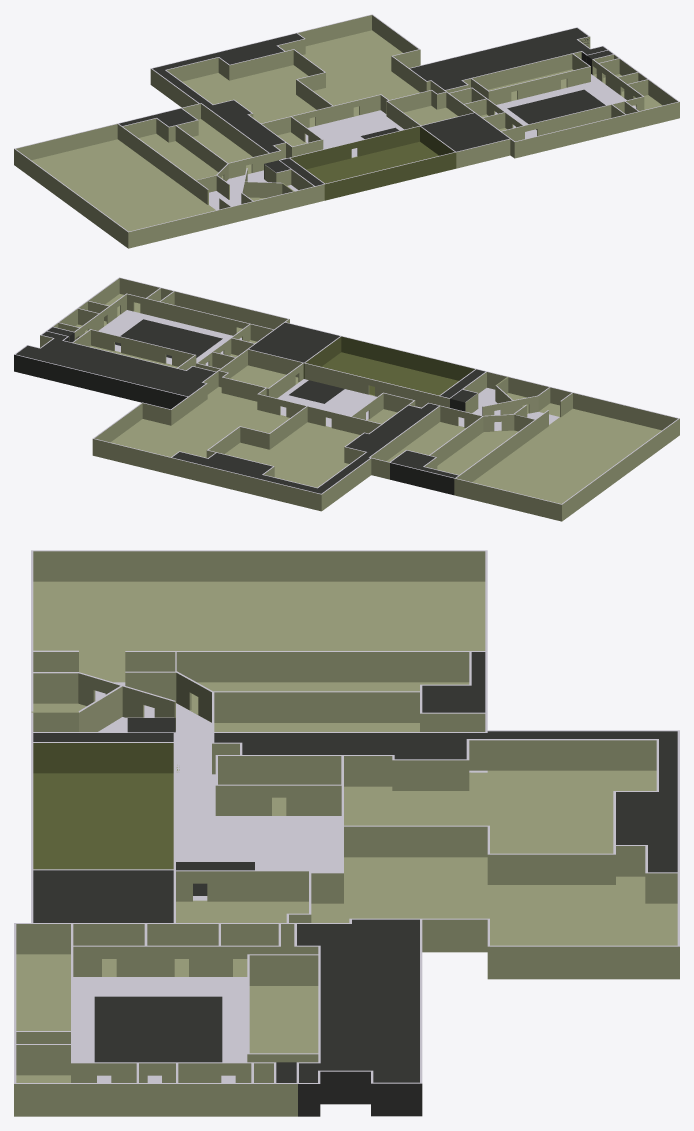
File: 2_floor.glb
The picture shows the model from 3 angles, top to bottom: view 1: azimuth 30°, elevation 25°; view 2: azimuth 150°, elevation 25°; view 3: azimuth 270°, elevation 25°; orthographic projection. The views are drawn at different scales.
Parts seen in each view (by area): view 1: Box621, Group009, Line054, Line058, Line063, Box662, Box721, Box657, Group025, Box704, Line059, Box625 (+36 smaller); view 2: Box621, Line058, Group009, Line054, Line063, Box662, Box657, Box663, Group025, Box704, Box625, Box719 (+39 smaller); view 3: Box621, Line054, Line058, Group009, Box625, Box657, Line063, Box626, Line059, Box662, Box719, Box704 (+49 smaller).
Part boxes in pixels (x1=…): Box621: x1=14, y1=139, x2=232, y2=248; Group009: x1=14, y1=14, x2=679, y2=232; Line054: x1=182, y1=65, x2=363, y2=126; Line058: x1=410, y1=28, x2=606, y2=89; Line063: x1=152, y1=33, x2=303, y2=152; Box662: x1=305, y1=30, x2=420, y2=83; Box721: x1=324, y1=152, x2=456, y2=200; Box657: x1=306, y1=141, x2=438, y2=183; Group025: x1=282, y1=79, x2=648, y2=191; Box704: x1=421, y1=113, x2=509, y2=151; Line059: x1=305, y1=110, x2=403, y2=157; Box625: x1=14, y1=149, x2=127, y2=246; Box621: x1=472, y1=408, x2=679, y2=520; Line058: x1=14, y1=331, x2=215, y2=409; Group009: x1=14, y1=277, x2=679, y2=504; Line054: x1=221, y1=410, x2=359, y2=487; Line063: x1=172, y1=403, x2=438, y2=493; Box662: x1=92, y1=419, x2=220, y2=474; Box657: x1=321, y1=352, x2=458, y2=395; Box663: x1=172, y1=392, x2=257, y2=437; Group025: x1=87, y1=300, x2=508, y2=385; Box704: x1=249, y1=322, x2=339, y2=362; Box625: x1=561, y1=419, x2=679, y2=521; Box719: x1=115, y1=319, x2=222, y2=358; Box621: x1=33, y1=581, x2=485, y2=682; Line054: x1=344, y1=770, x2=656, y2=902; Line058: x1=297, y1=919, x2=422, y2=1116; Group009: x1=14, y1=550, x2=679, y2=1083; Box625: x1=33, y1=551, x2=485, y2=581; Box657: x1=33, y1=773, x2=173, y2=869; Line063: x1=214, y1=731, x2=677, y2=872; Box626: x1=125, y1=652, x2=469, y2=682; Line059: x1=176, y1=785, x2=341, y2=900; Box662: x1=487, y1=902, x2=679, y2=979; Box719: x1=94, y1=996, x2=222, y2=1062; Box704: x1=33, y1=870, x2=173, y2=922.
Size of the model in its own units: 157641 by 4500 by 83127.
